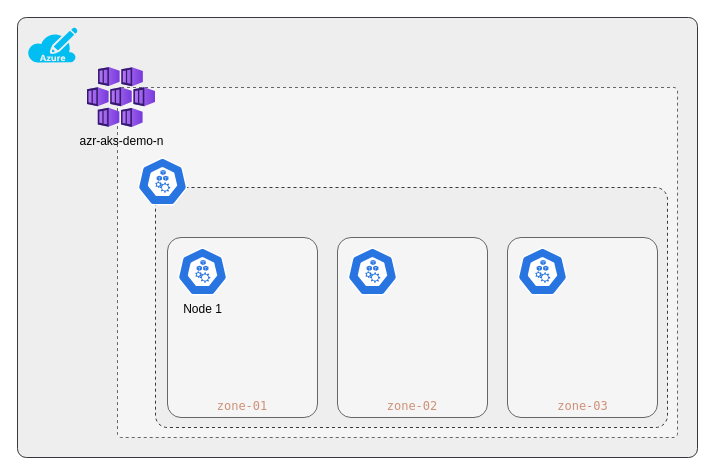
Image size: 715x475. Some labels were removed from this diagram. Here are the shapes that lost their labels. From the top down, the centre of each, then its label:
At point (162, 181): "NodePool".
At point (372, 271): "Node 2".
At point (542, 271): "Node 3".
